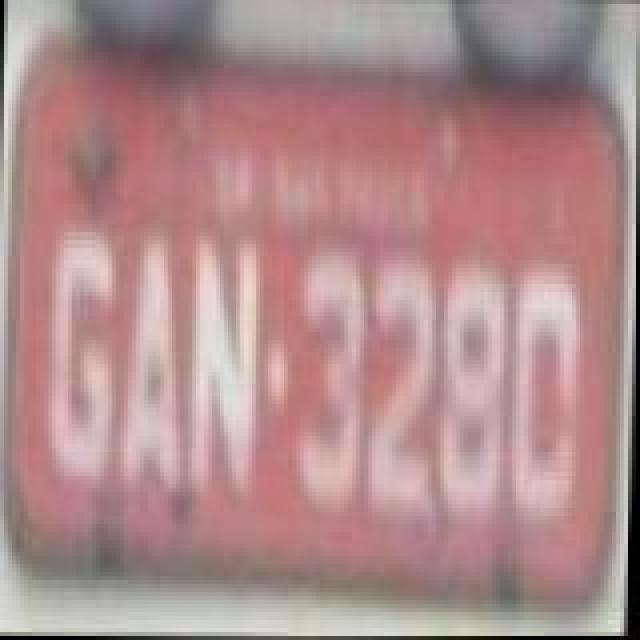2: (364, 264, 440, 520)
3: (290, 254, 370, 510)
8: (436, 264, 512, 520)
A: (120, 242, 192, 498)
G: (46, 228, 122, 484)
N: (190, 236, 266, 500)
O: (506, 268, 586, 524)
